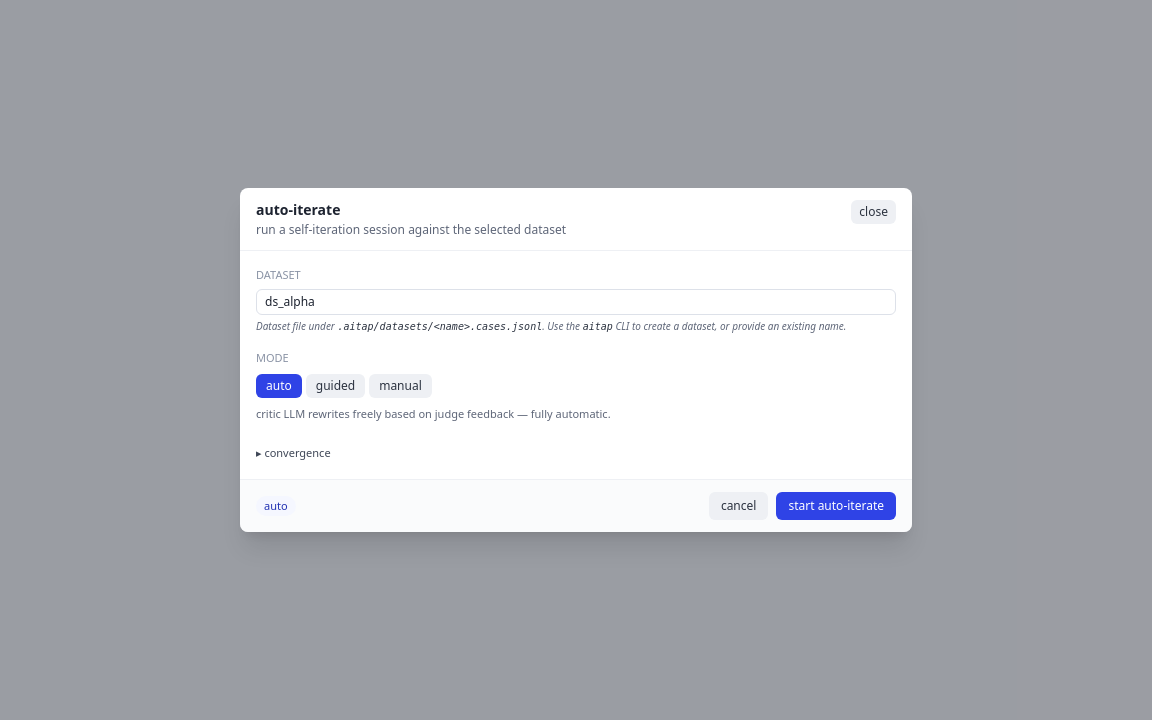
it: AutoIterateModal › disables Start when guided mode lacks a non-empty instruction
Click the button "guided" at (336, 386), box [306,374,365,398]
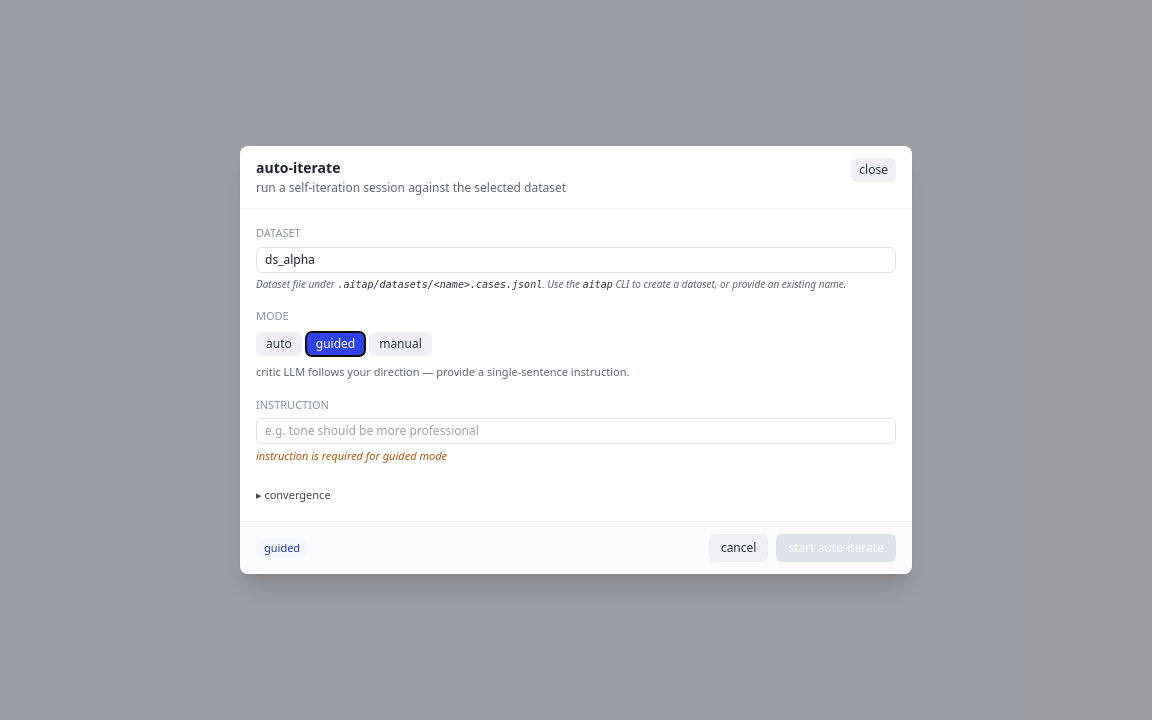
expect the button "start auto-iterate" is disabled: met, box [776,534,896,562]
Note: Typing makes Start clickable again.
Type "make it more professional" into the field labelled "instruction" at (576, 431), box [256,418,896,444]
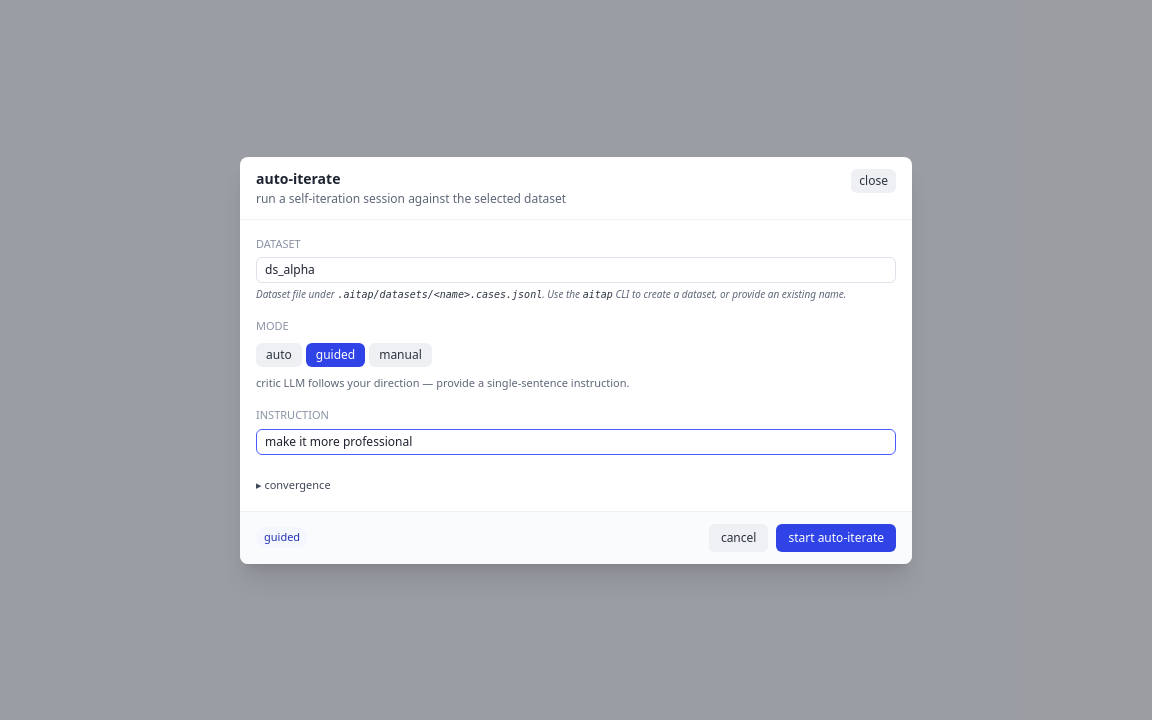
expect the button "start auto-iterate" is enabled: met, box [776,524,896,552]
